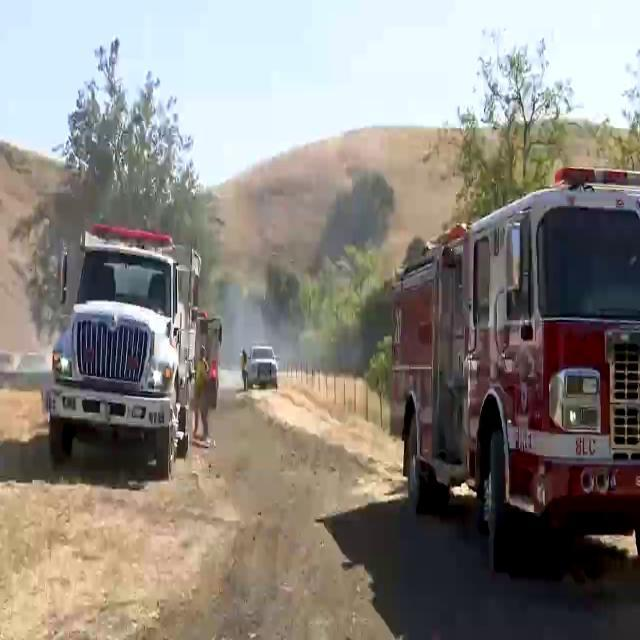Smoke: (207, 171, 367, 379)
